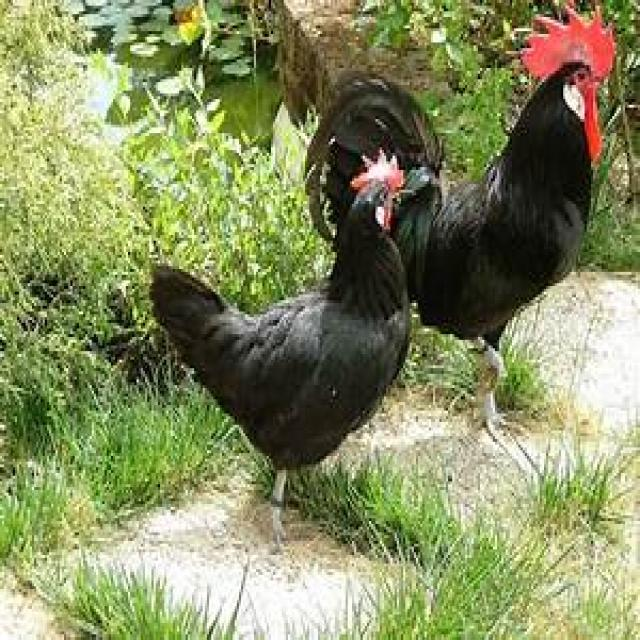hen: (305, 62, 604, 433), (151, 167, 412, 507)
